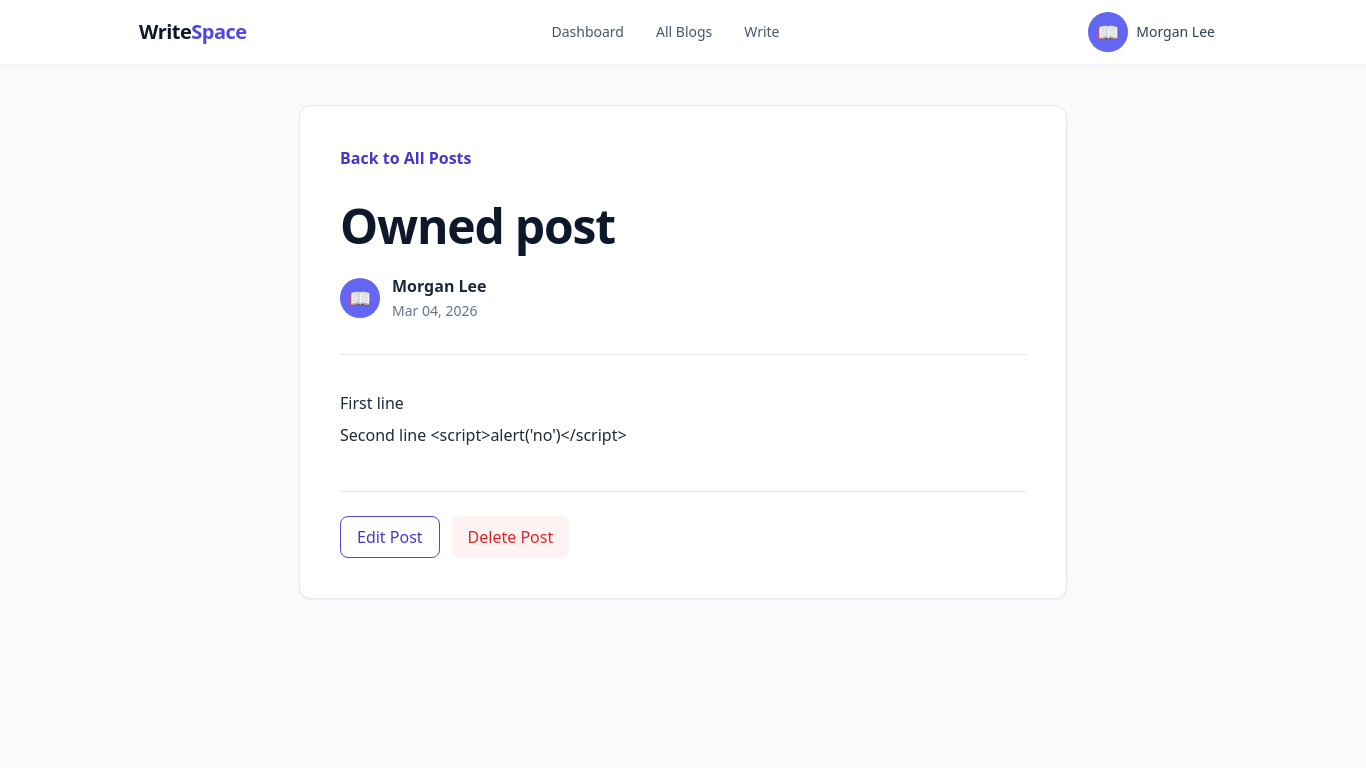
Test: ReadBlog › retains the post and reader when deletion persistence fails
This screenshot has width=1366, height=768.
Click the button "Delete Post" at (510, 537), box [452,516,569,558]
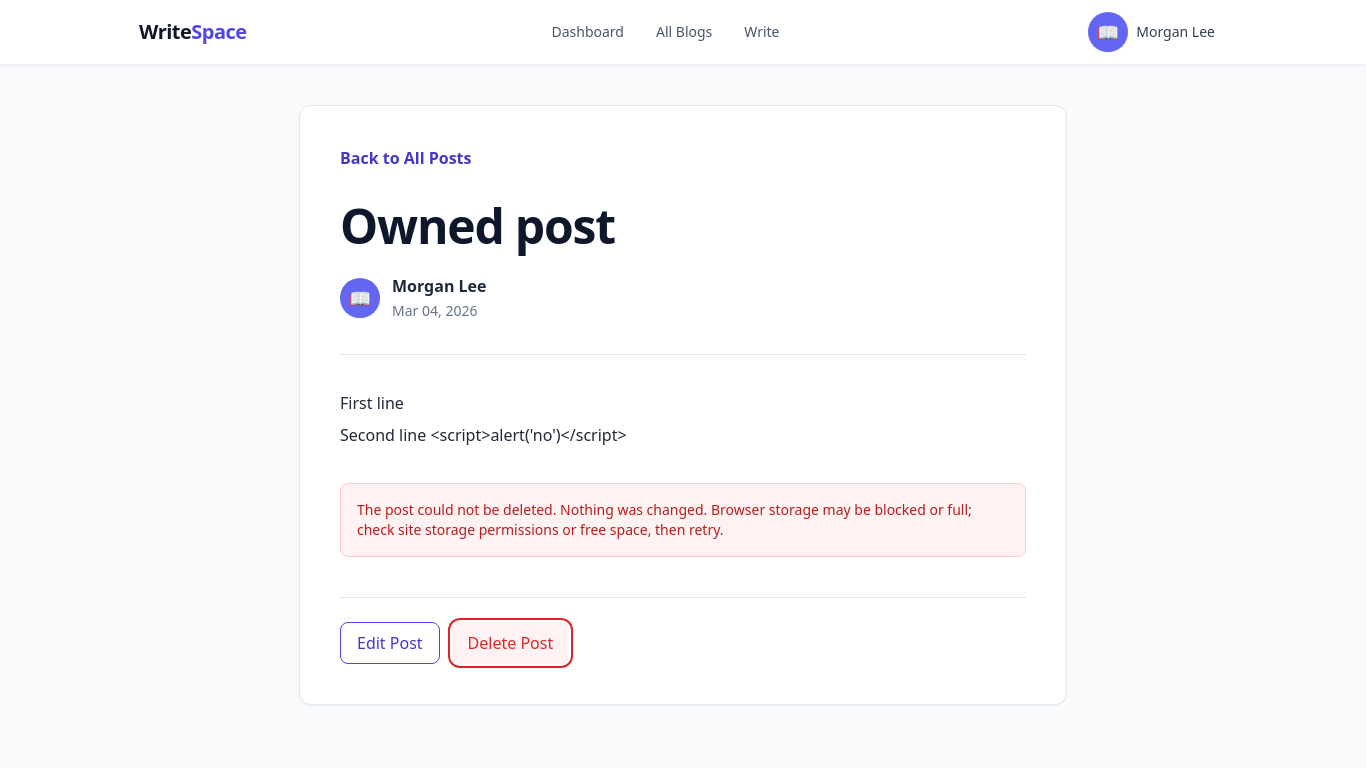
Expected: the heading "Owned post" is shown, [340,193,615,258]
Result: the message shows "Nothing was changed" at [357,500,972,539]
Result: the message shows "Browser storage may be blocked or full" at [357,500,972,539]
